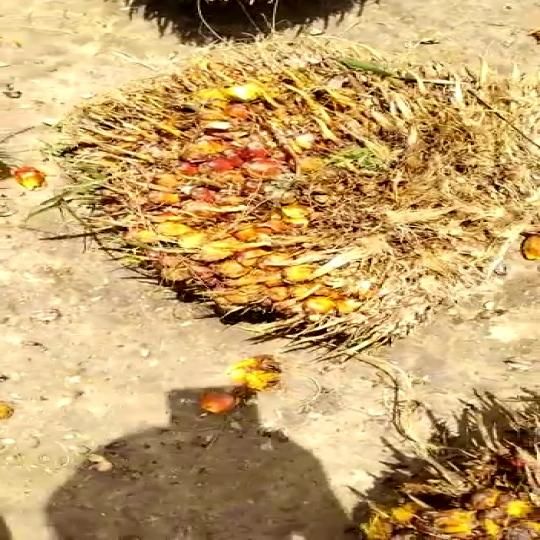terlalu masak: (35, 57, 540, 348)
